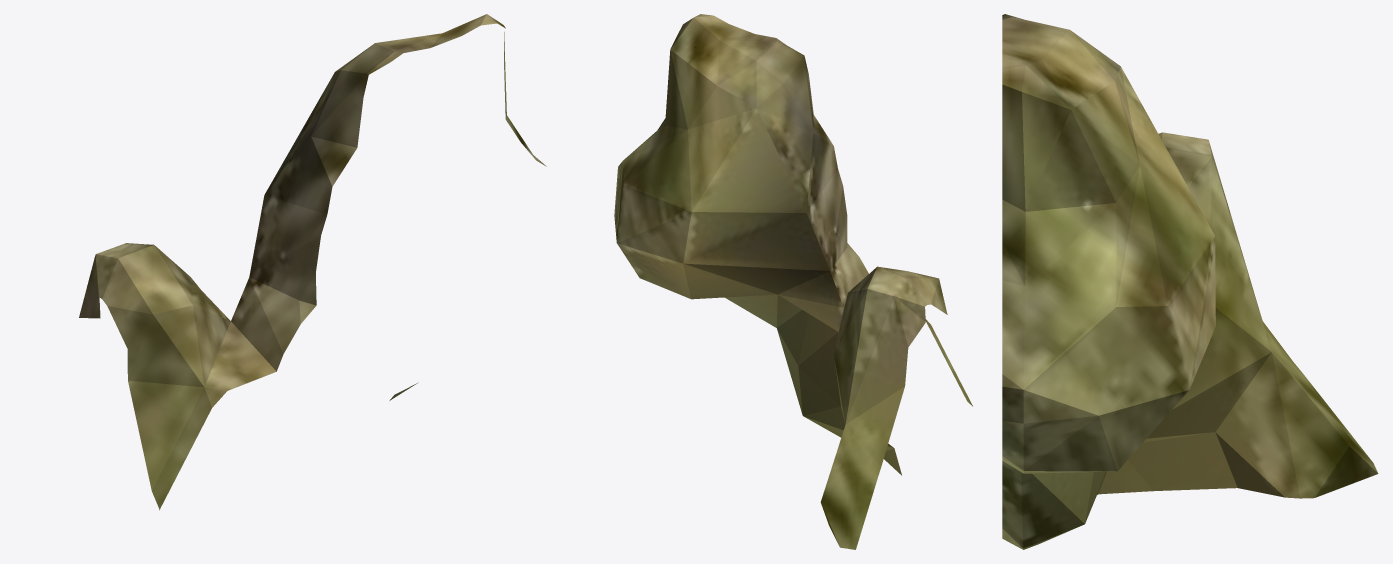
3 views of the same model, side by side, from view 1: azimuth 30°, elevation 25°; view 2: azimuth 150°, elevation 25°; view 3: azimuth 270°, elevation 25° (orthographic). The views are drawn at different scales.
Size of the model in its own units: 1.06 by 1.12 by 0.6283.
1 material, 1 textured.
